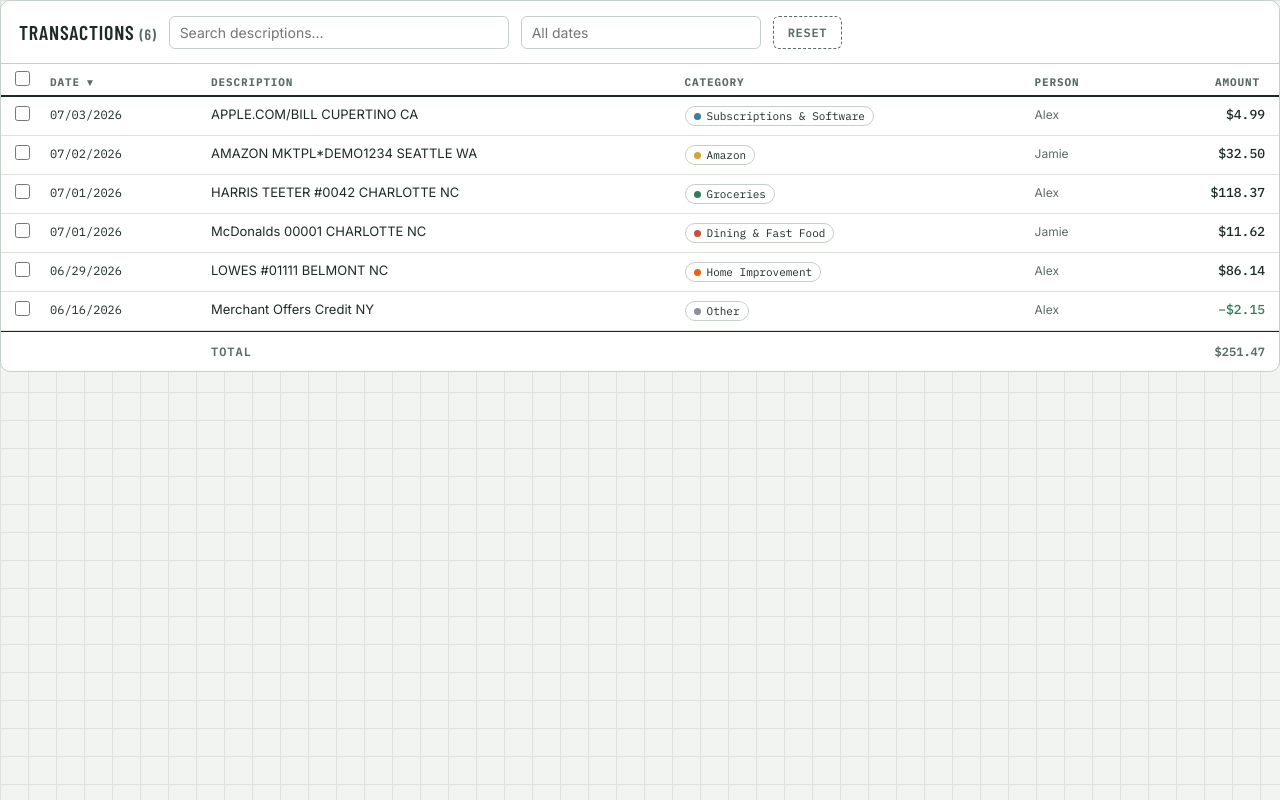
Test: TransactionTable › totals the visible rows in the footer
Check: the text "Total" is shown, box [197, 331, 670, 371]
Check: the text "$251.47" is shown, box [1146, 331, 1279, 371]
Type "lowes" into the field labelled "Search description" at {"x": 339, "y": 32}, box [169, 16, 509, 48]
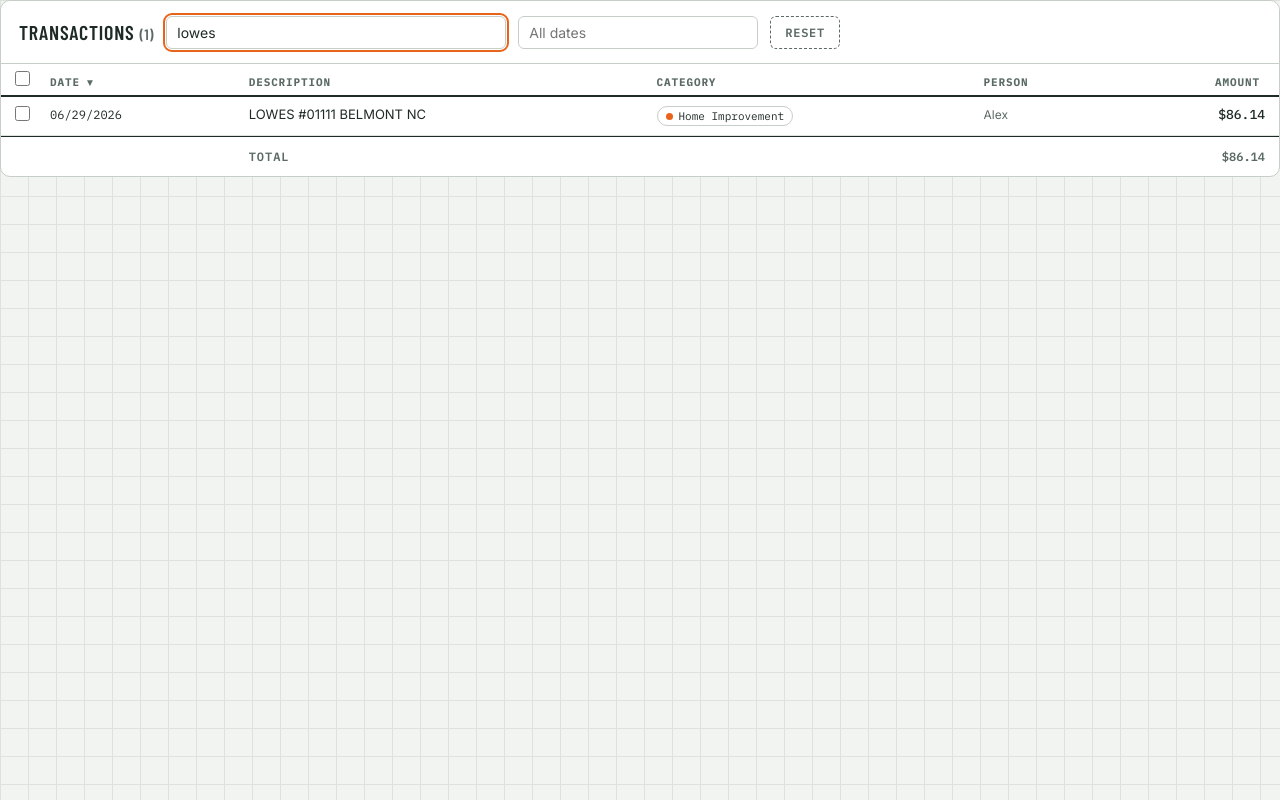
Check: the text "$86.14" in the row of "Total" is shown, box [1222, 149, 1265, 164]
